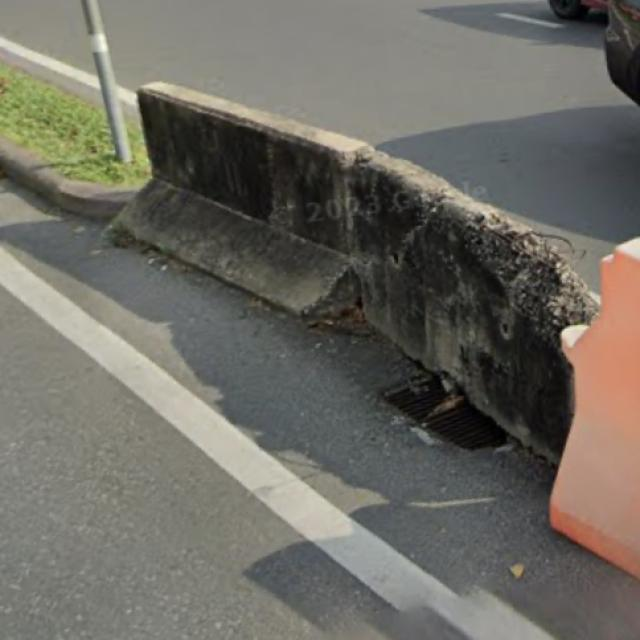fallen_object: (99, 67, 596, 470), (536, 212, 640, 578)
